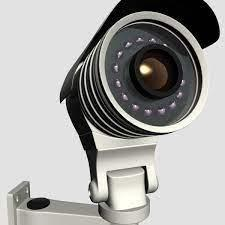tutu: (58, 0, 220, 204)
